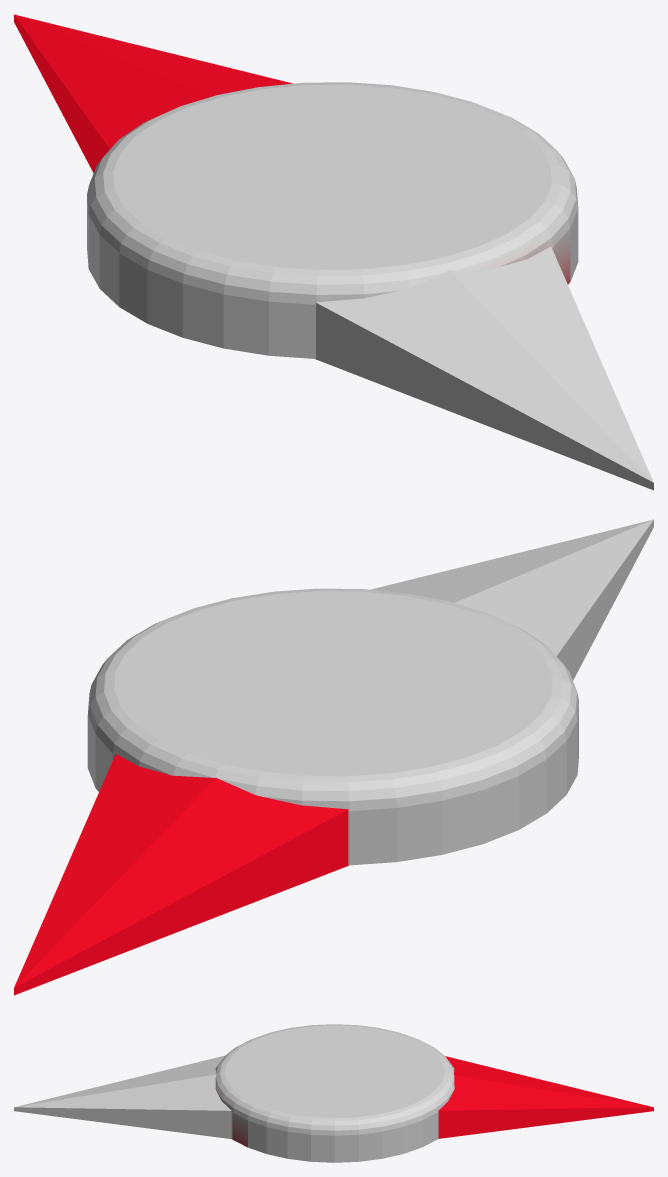
Rendered from compass_gray.fbx.
3 views of the same model, one above another, from view 1: azimuth 30°, elevation 25°; view 2: azimuth 150°, elevation 25°; view 3: azimuth 270°, elevation 25° (orthographic). The views are drawn at different scales.
Parts seen in each view (by area): view 1: Cube; view 2: Cube; view 3: Cube.
Part boxes in pixels (box(x1,y1,x2,y2)): Cube: box(14, 14, 653, 490); Cube: box(14, 519, 653, 995); Cube: box(14, 1024, 653, 1162).
Size of the model in its own units: 303 by 53.29 by 788.
